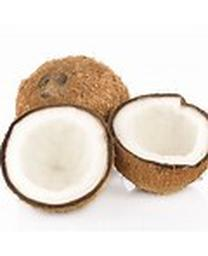coconut: (2, 104, 115, 214), (16, 56, 130, 157), (108, 92, 207, 196)
